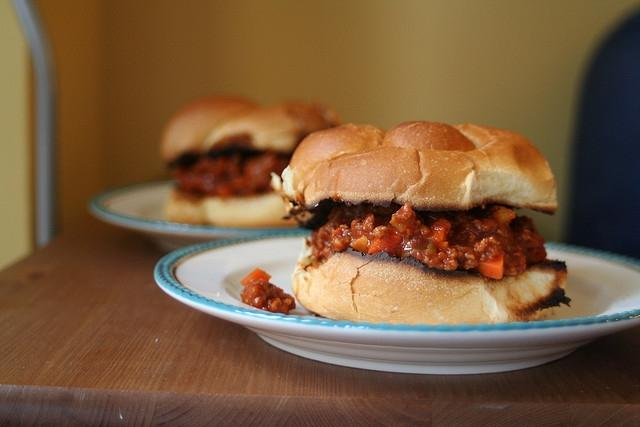carrot: (368, 230, 403, 256), (215, 176, 248, 198), (476, 256, 504, 280), (428, 217, 451, 245), (240, 267, 272, 287), (490, 206, 516, 225), (349, 239, 368, 254)
